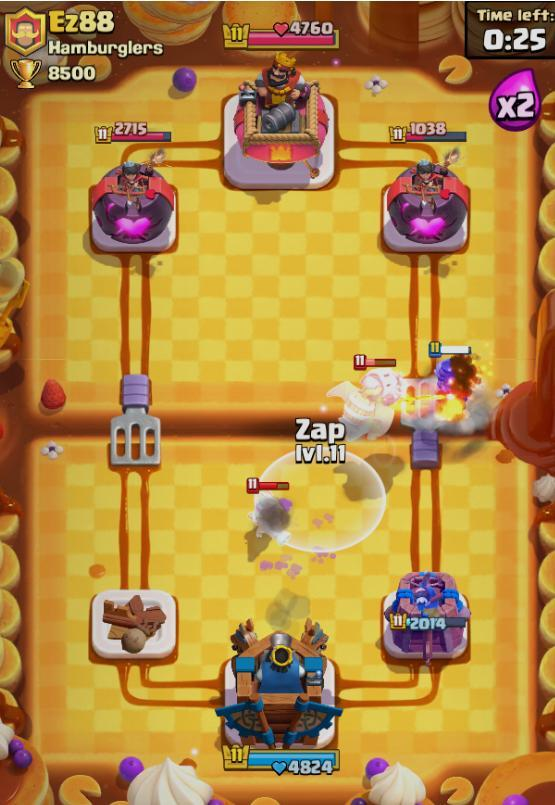EInfernoDrag: (328, 355, 403, 439)
EKingTower: (229, 67, 333, 189)
EMusk: (247, 479, 292, 543)
EnemyPrincessTower: (382, 160, 469, 253), (90, 160, 175, 253)
OwnKingTower: (216, 620, 341, 749)
OwnPrincessTower: (382, 572, 470, 664)
TowerDown: (90, 589, 177, 661)
